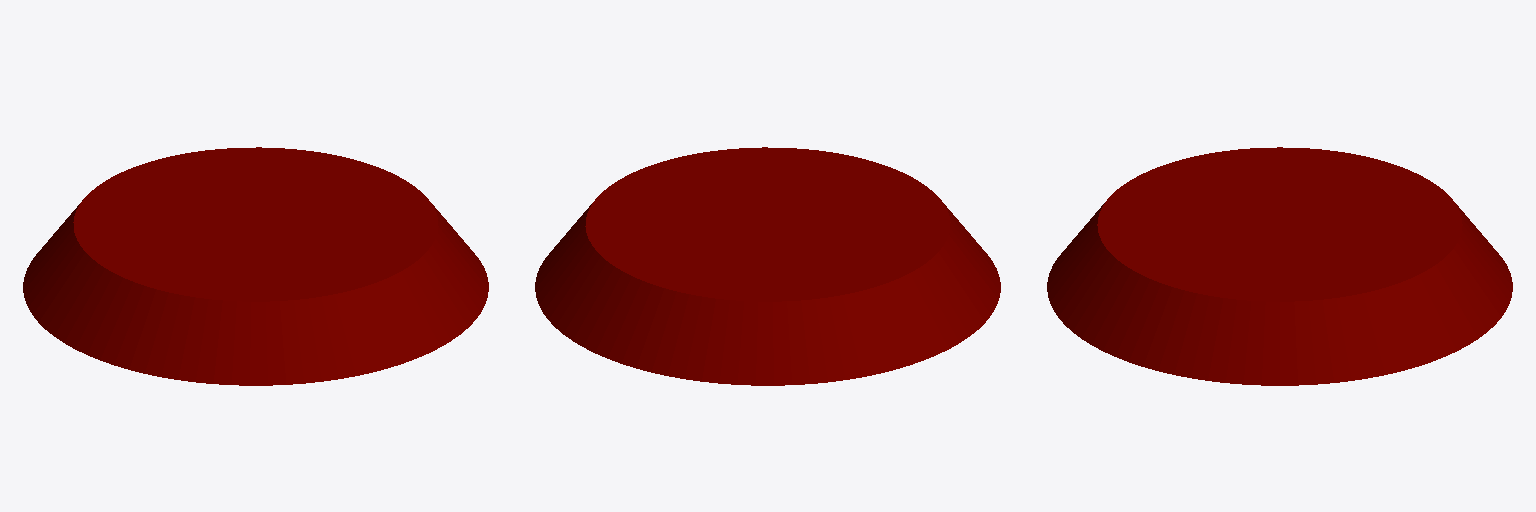
File: base-globo.obj
The picture shows the model from 3 angles: view 1: azimuth 30°, elevation 25°; view 2: azimuth 150°, elevation 25°; view 3: azimuth 270°, elevation 25°; orthographic projection.
Visible parts, largest first — view 1: Cone; view 2: Cone; view 3: Cone.
Part boxes in pixels (x1,y1,x2,y2): Cone: (23,147,488,385); Cone: (535,147,1000,385); Cone: (1047,147,1512,385).
Size of the model in its own units: 74 by 11 by 74.